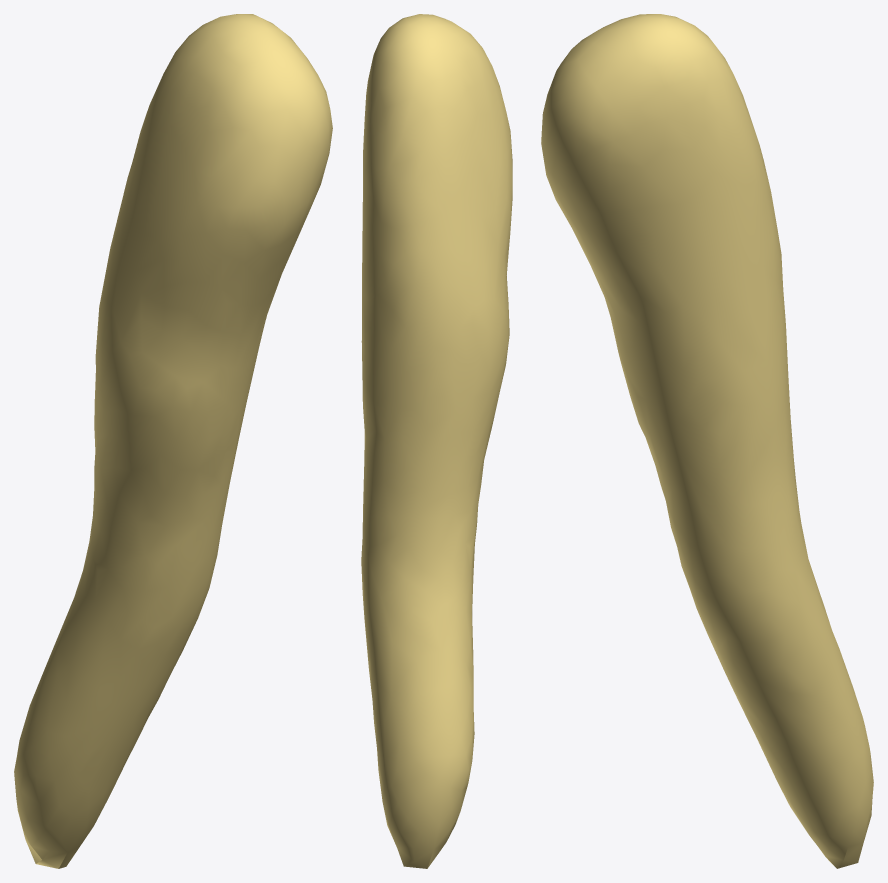
Rendered from fma54509_mm3521.glb.
The picture shows the model from 3 angles, left to right: view 1: azimuth 30°, elevation 25°; view 2: azimuth 150°, elevation 25°; view 3: azimuth 270°, elevation 25°; orthographic projection. The views are drawn at different scales.
Parts seen in each view (by area): view 1: FMA54509_MM3521; view 2: FMA54509_MM3521; view 3: FMA54509_MM3521.
Part boxes in pixels (bbox=[...]): FMA54509_MM3521: bbox=[14, 14, 332, 868]; FMA54509_MM3521: bbox=[361, 14, 512, 868]; FMA54509_MM3521: bbox=[541, 14, 873, 868].
Size of the model in its own units: 0.00282 by 0.0122 by 0.00412.
